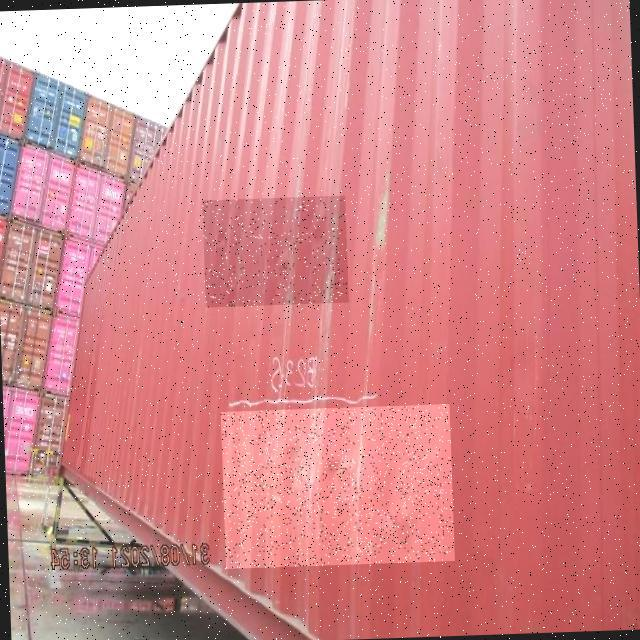Dent: (221, 404, 455, 569)
Minor-Dent: (202, 195, 349, 307)
